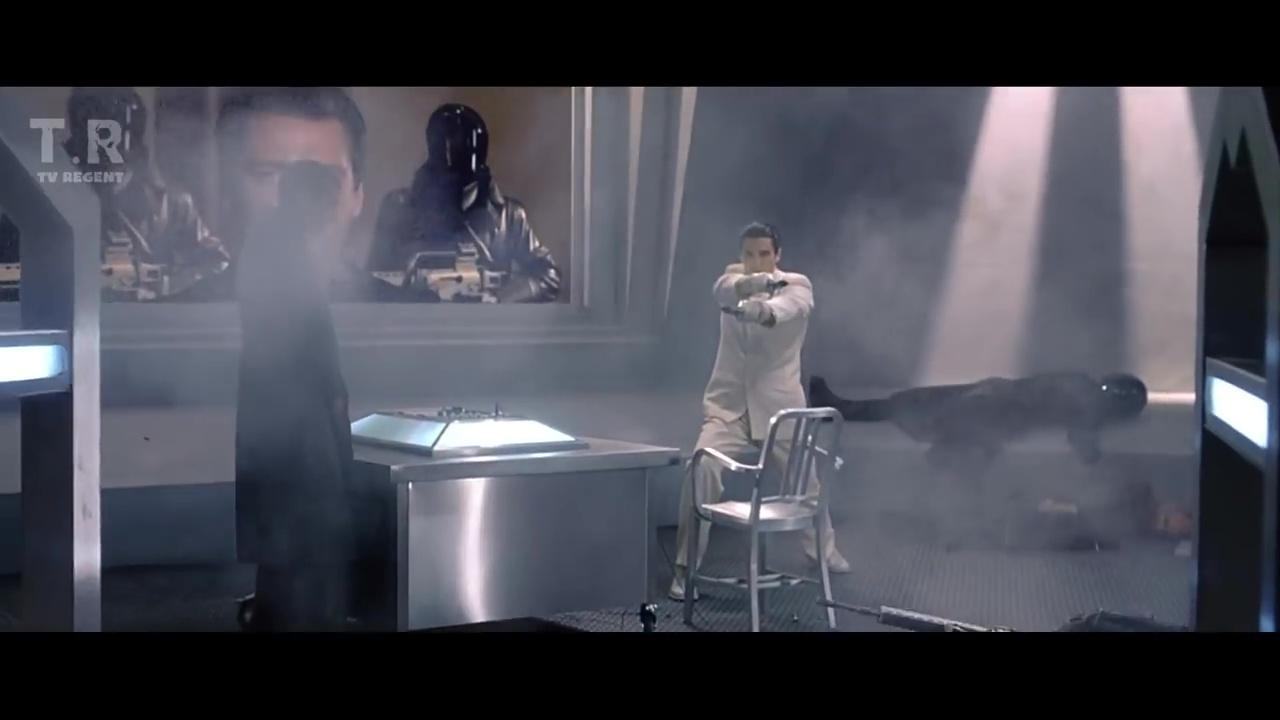Gun: (362, 242, 513, 301), (803, 591, 1005, 633), (101, 215, 186, 303)
Pistol: (715, 299, 755, 317), (767, 276, 793, 295)
